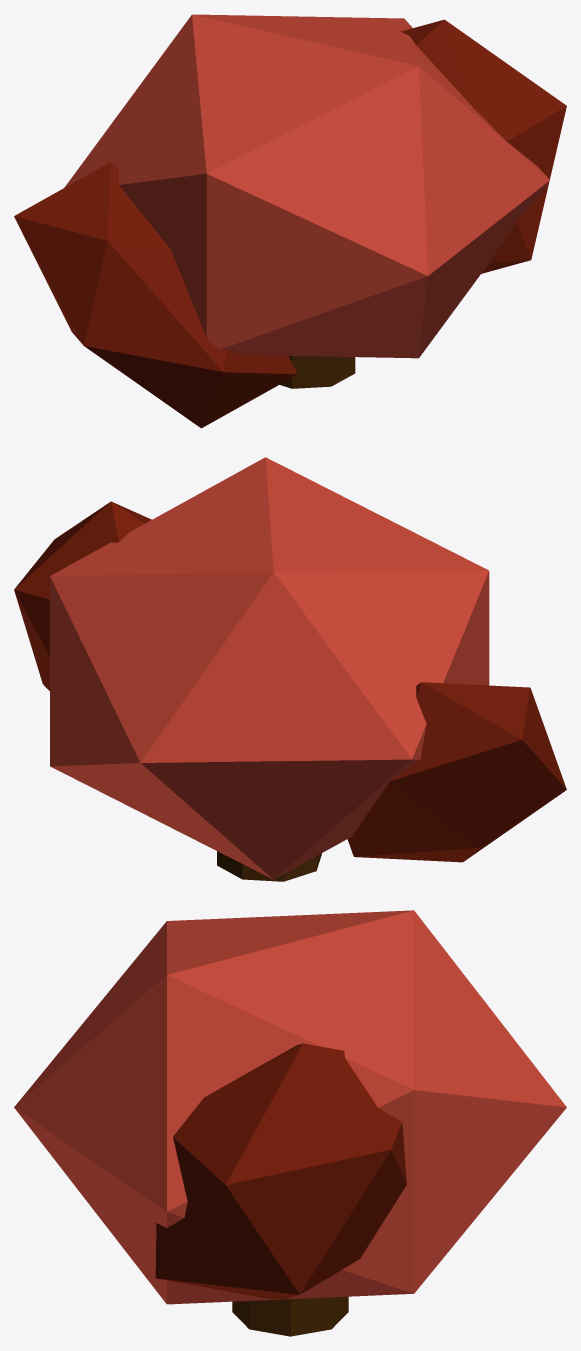
File: TT_Japanese_bush 1.fbx
3 renders of one model, top to bottom at view 1: azimuth 30°, elevation 25°; view 2: azimuth 150°, elevation 25°; view 3: azimuth 270°, elevation 25°, orthographic. The views are drawn at different scales.
Visible parts, largest first — view 1: Bush; view 2: Bush; view 3: Bush.
Part boxes in pixels (x1,y1,x2,y2): Bush: (14,14,566,428); Bush: (14,457,566,881); Bush: (14,910,566,1336).
Size of the model in its own units: 222 by 140 by 189.
